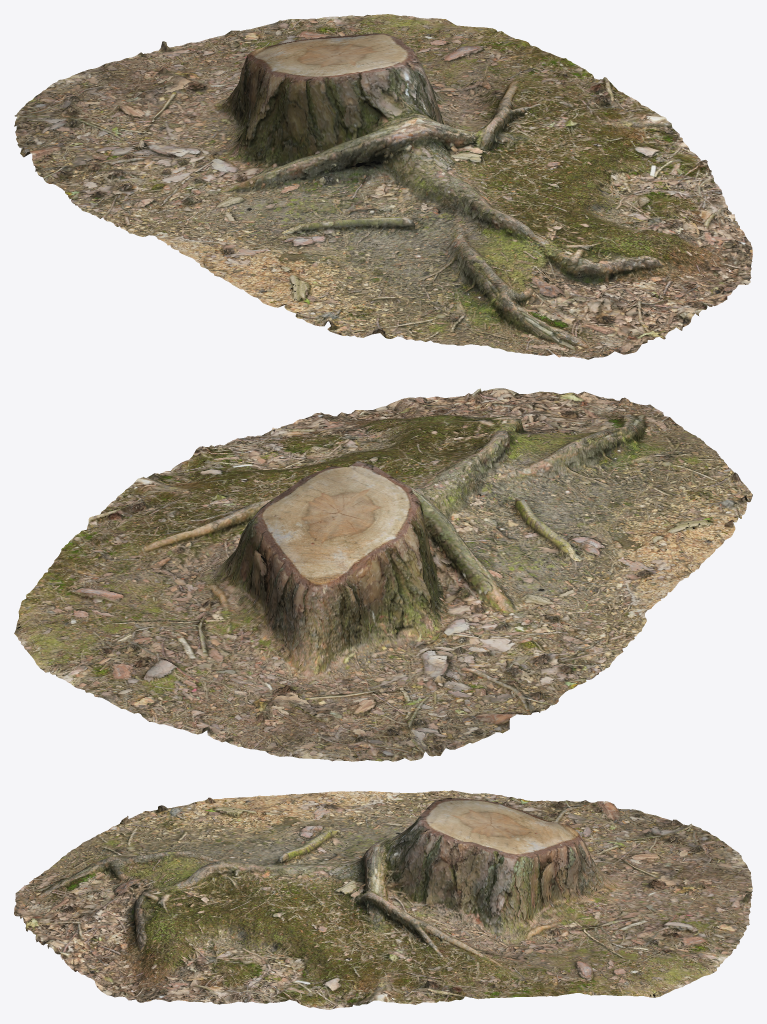
The model's file is 3DTreeStump001_LQ-1K-JPG.obj.
3 views of the same model, one above another, from view 1: azimuth 30°, elevation 25°; view 2: azimuth 150°, elevation 25°; view 3: azimuth 270°, elevation 25° (orthographic). The views are drawn at different scales.
Parts seen in each view (by area): view 1: 3DTreeStump001_LQ-1K-JPG; view 2: 3DTreeStump001_LQ-1K-JPG; view 3: 3DTreeStump001_LQ-1K-JPG.
Part boxes in pixels (<box>): 3DTreeStump001_LQ-1K-JPG: <box>14,14,752,359</box>; 3DTreeStump001_LQ-1K-JPG: <box>14,388,752,761</box>; 3DTreeStump001_LQ-1K-JPG: <box>14,790,752,1009</box>.
Size of the model in its own units: 0.9732 by 0.2178 by 1.4.
Materials: 1 (1 with a texture image).
